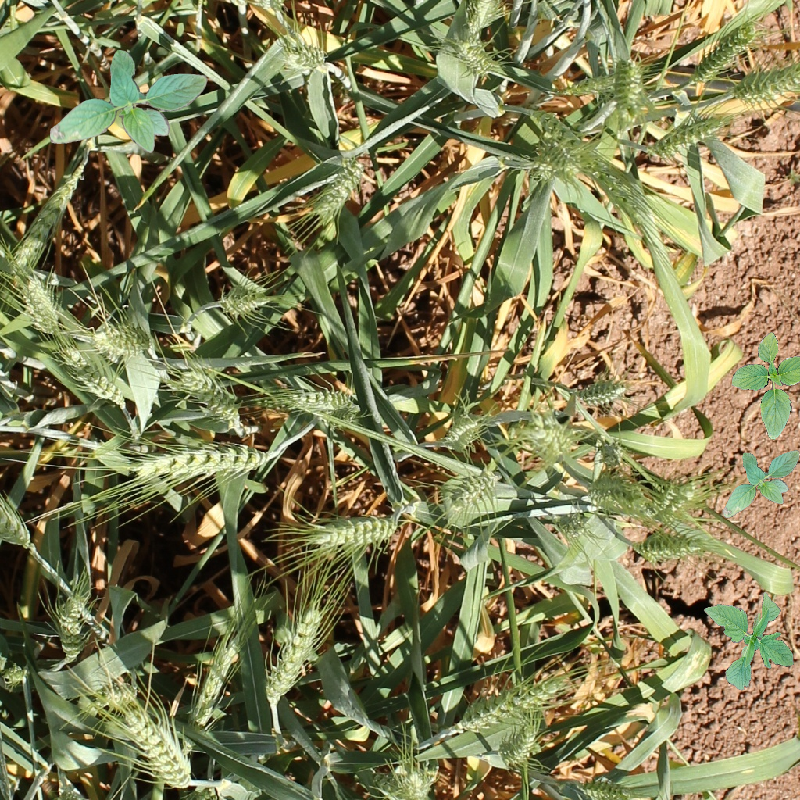spikelet: (10, 160, 85, 267), (456, 673, 566, 733), (119, 702, 194, 789), (134, 438, 269, 484), (264, 604, 325, 703), (524, 110, 599, 180), (690, 20, 757, 82), (178, 364, 244, 426), (192, 638, 240, 723), (303, 512, 401, 553), (60, 346, 126, 406), (311, 159, 364, 220), (439, 466, 498, 516), (655, 113, 723, 156), (285, 385, 362, 420), (735, 61, 800, 102), (586, 474, 648, 514), (22, 274, 61, 333), (523, 419, 574, 462), (92, 321, 148, 360), (1, 484, 33, 549), (54, 598, 86, 661), (497, 720, 540, 766), (639, 530, 700, 562), (218, 280, 270, 317), (650, 478, 698, 517), (611, 56, 645, 108), (569, 70, 620, 104), (282, 39, 327, 74), (442, 414, 484, 451), (574, 378, 626, 405), (455, 37, 491, 76), (580, 777, 637, 800), (550, 507, 589, 539), (592, 436, 626, 468), (399, 768, 433, 800), (466, 1, 503, 29), (1, 662, 29, 691)
weed: (50, 50, 205, 158), (708, 599, 800, 692), (729, 333, 800, 446), (722, 454, 799, 514)
